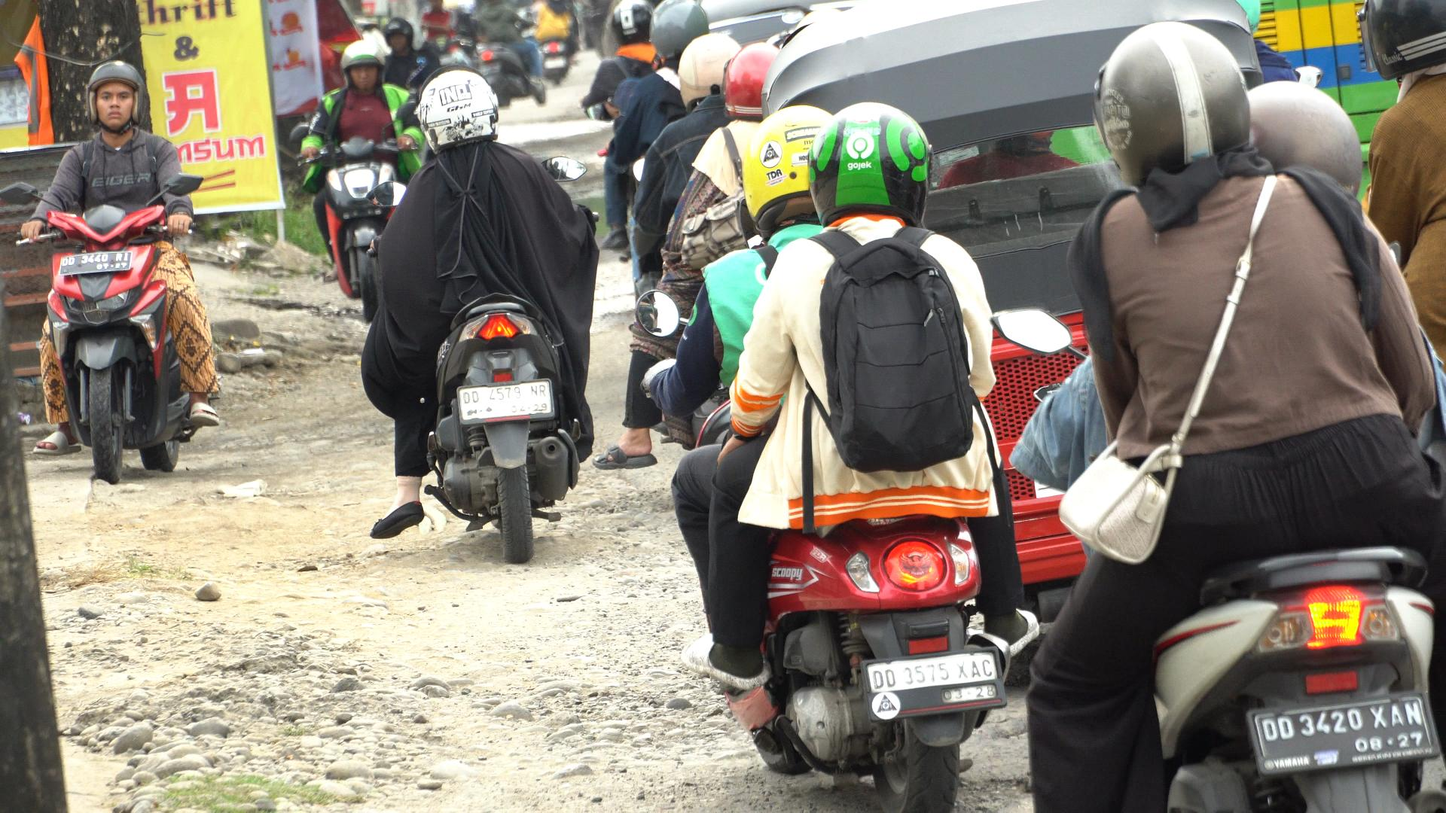number-plate: (58, 250, 131, 274)
